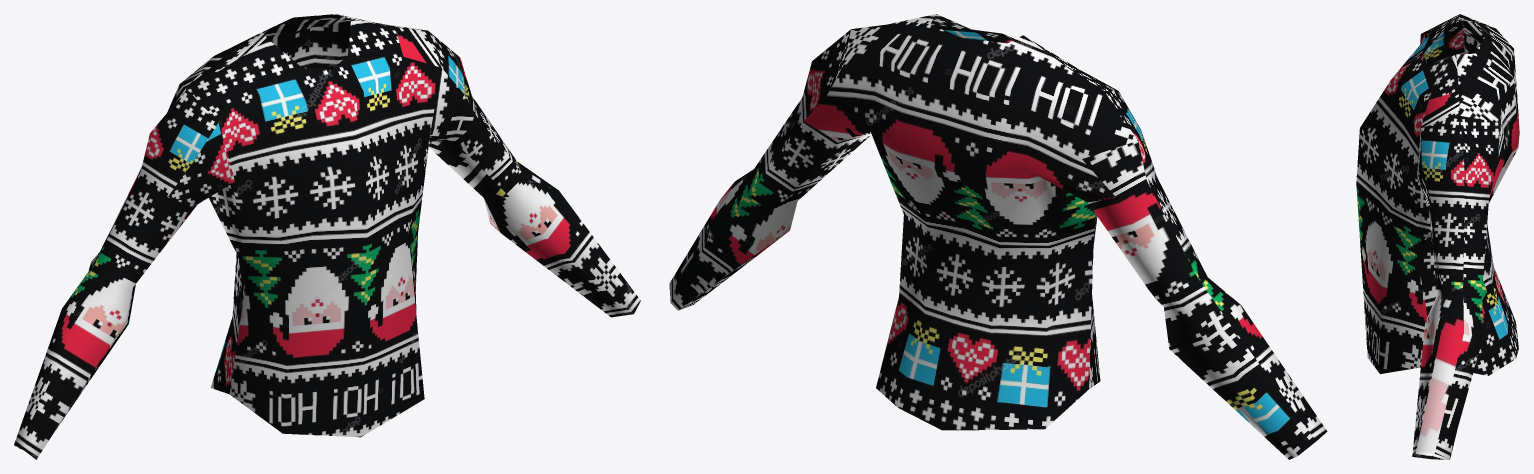
Rendered from sweater7.fbx.
The picture shows the model from 3 angles, left to right: view 1: azimuth 30°, elevation 25°; view 2: azimuth 150°, elevation 25°; view 3: azimuth 270°, elevation 25°; orthographic projection. The views are drawn at different scales.
Parts seen in each view (by area): view 1: Cube; view 2: Cube; view 3: Cube.
Boxes of the visible parts, x1,y1,x2,y2 form: Cube: [14, 14, 640, 459]; Cube: [669, 14, 1327, 459]; Cube: [1356, 14, 1519, 459].
Size of the model in its own units: 243 by 139 by 64.35.
Materials: 1 (1 with a texture image).
